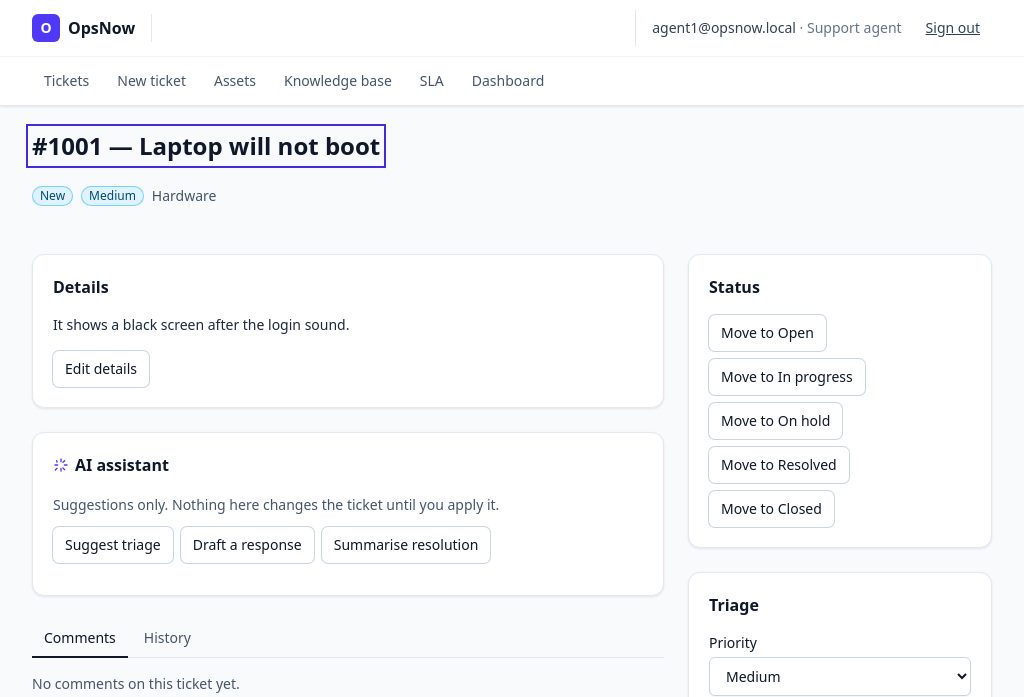
AI assistant — draft response and resolution summary › renders a draft read-only and posts nothing
Expected: the heading "#1001 — Laptop will not boot" is shown, [32, 130, 380, 162]
Click the button "Draft a response" at (247, 545), box [181, 527, 314, 563]
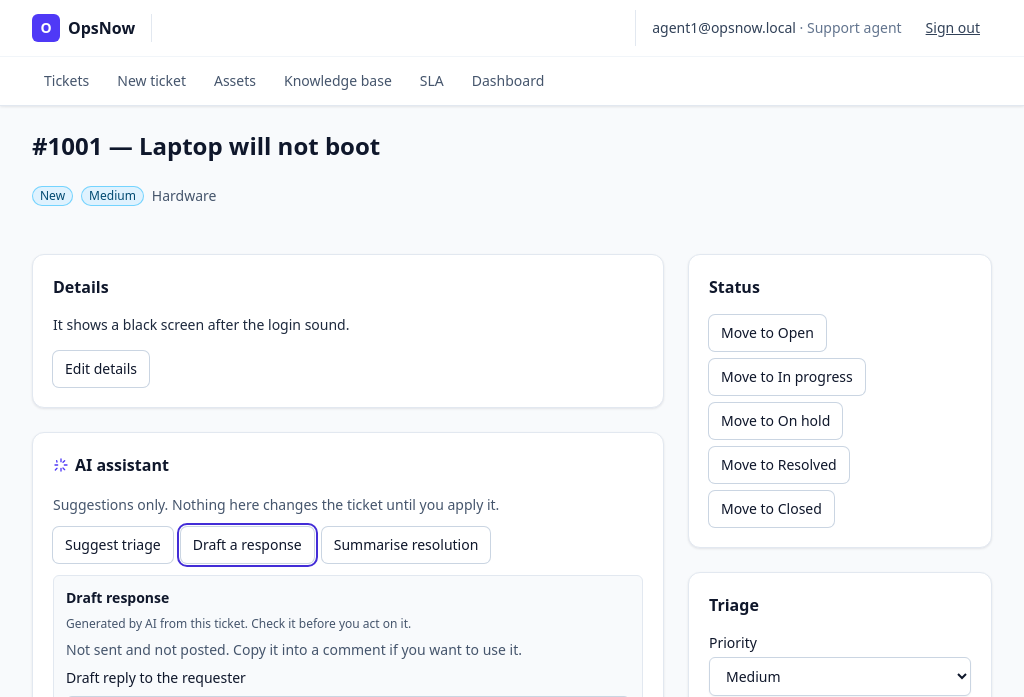
Expected: the text "Not sent and not posted" is shown, [66, 640, 522, 659]
